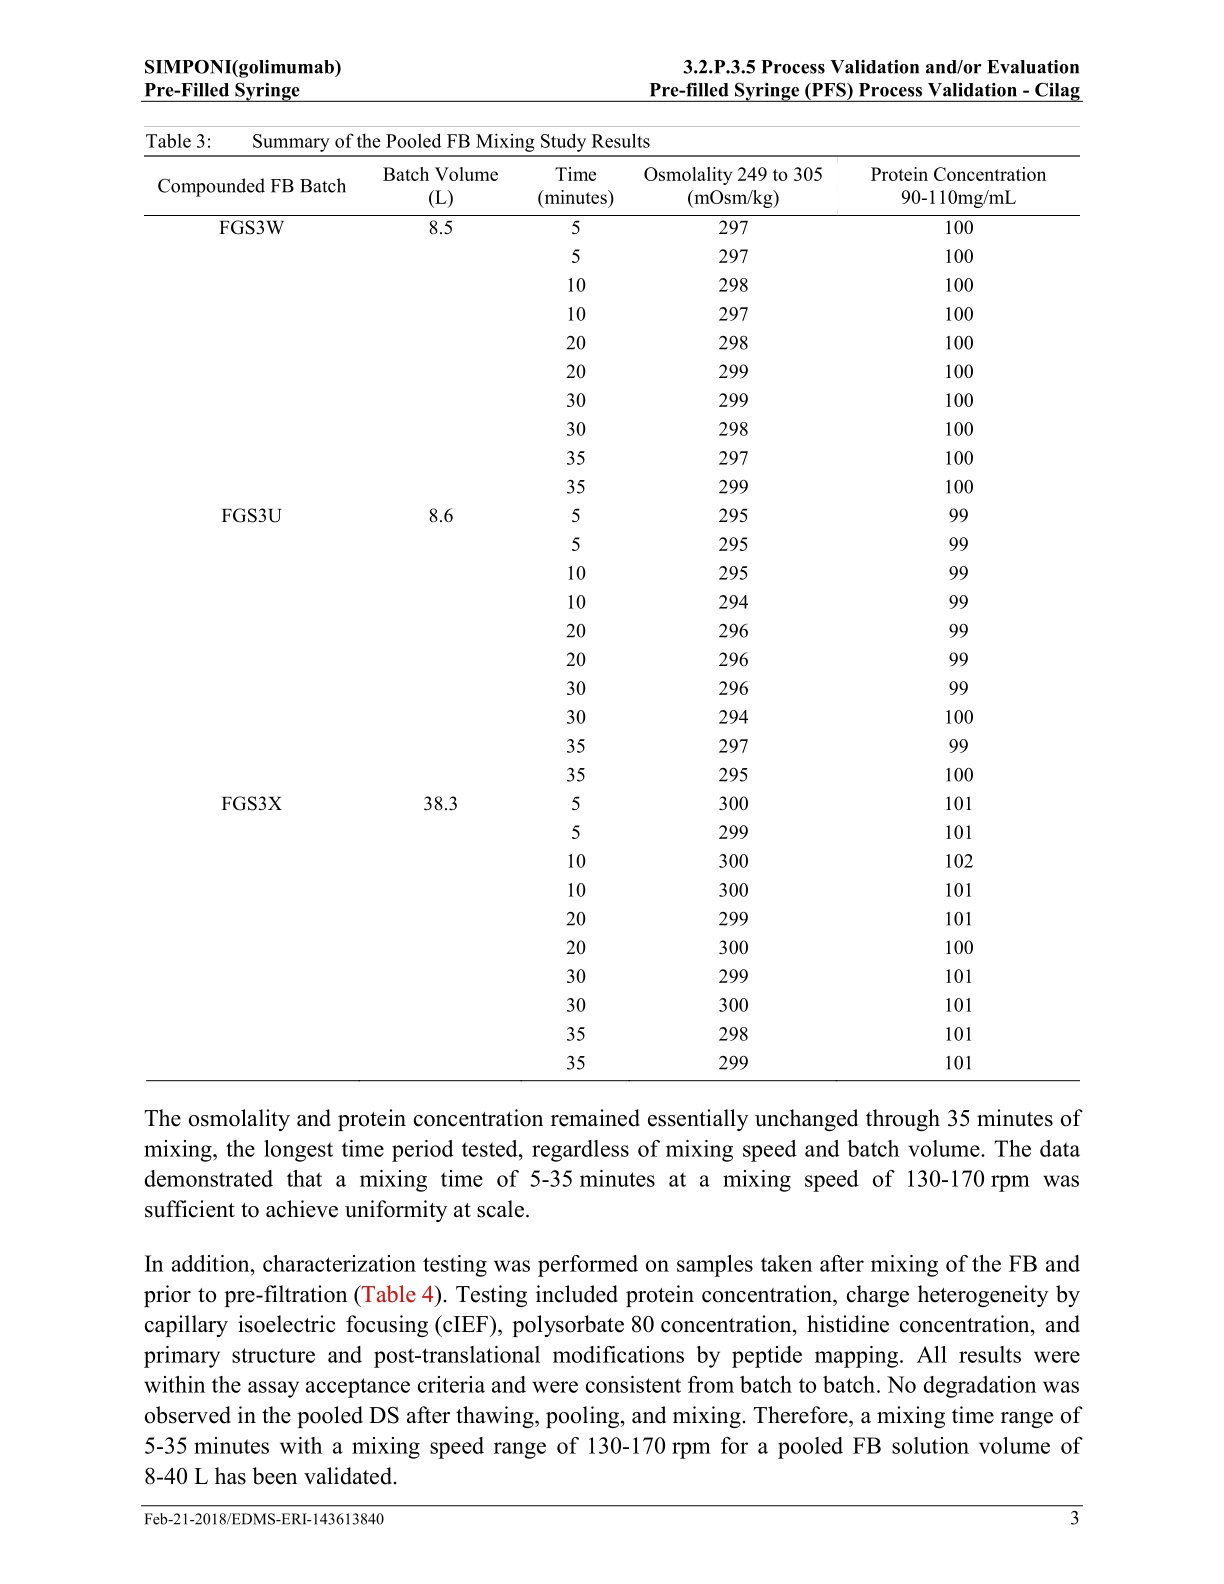partial_lined: (144, 156, 1083, 1083)
